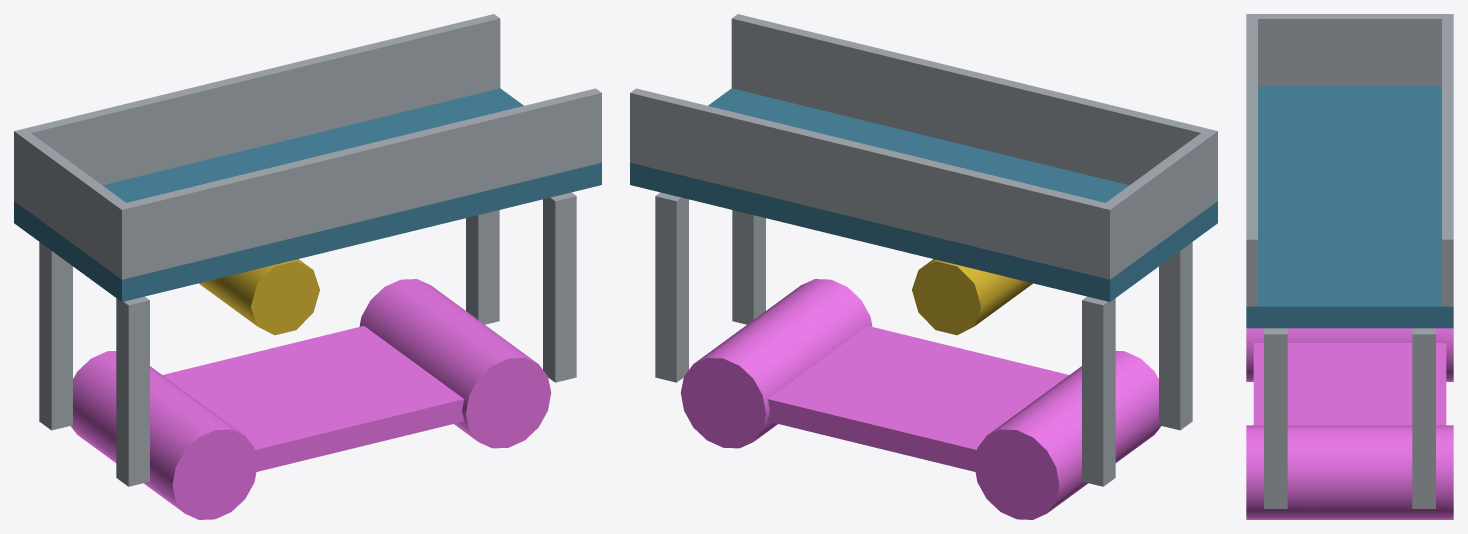
3 renders of one model, left to right at view 1: azimuth 30°, elevation 25°; view 2: azimuth 150°, elevation 25°; view 3: azimuth 270°, elevation 25°, orthographic. The views are drawn at different scales.
Parts seen in each view (by area): view 1: side1, side0, visualRoller (×2), visualBelt, trayBottom, intakeBack, leg1, leg3, leg0, drive, leg2; view 2: side0, side1, visualRoller (×2), visualBelt, trayBottom, intakeBack, leg0, leg2, leg1, drive, leg3; view 3: trayBottom, visualRoller (×2), intakeBack, visualBelt, leg2, leg3, side1, side0.
Boxes of the visible parts, x1,y1,x2,y2 form: side1: [115, 88, 601, 279]; side0: [25, 14, 500, 185]; visualRoller (×2): [71, 279, 551, 519]; visualBelt: [163, 326, 463, 471]; trayBottom: [14, 88, 601, 301]; intakeBack: [14, 128, 132, 279]; leg1: [116, 296, 149, 486]; leg3: [543, 192, 576, 382]; leg0: [39, 242, 72, 430]; drive: [199, 259, 319, 335]; leg2: [466, 210, 499, 324]; side0: [630, 88, 1116, 279]; side1: [731, 14, 1215, 185]; visualRoller (×2): [680, 279, 1160, 519]; visualBelt: [768, 326, 1068, 471]; trayBottom: [630, 88, 1217, 301]; intakeBack: [1099, 128, 1217, 279]; leg0: [1082, 296, 1115, 486]; leg2: [655, 192, 688, 382]; leg1: [1159, 242, 1192, 430]; drive: [912, 259, 1032, 335]; leg3: [732, 210, 765, 324]; trayBottom: [1246, 86, 1453, 328]; visualRoller (×2): [1246, 328, 1453, 519]; intakeBack: [1246, 14, 1453, 86]; visualBelt: [1253, 343, 1446, 425]; leg2: [1412, 328, 1435, 508]; leg3: [1264, 328, 1287, 508]; side1: [1246, 14, 1257, 306]; side0: [1442, 14, 1453, 306].
Size of the model in its own units: 1.8 by 1.19 by 0.7.
